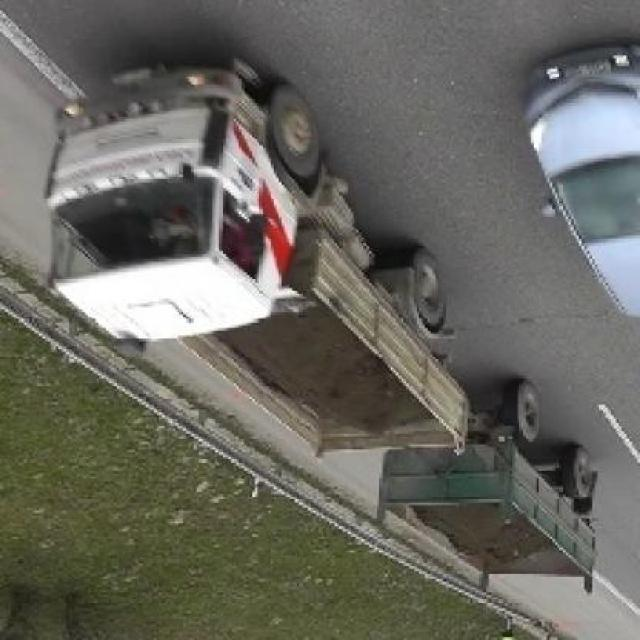truck: (46, 46, 601, 604)
